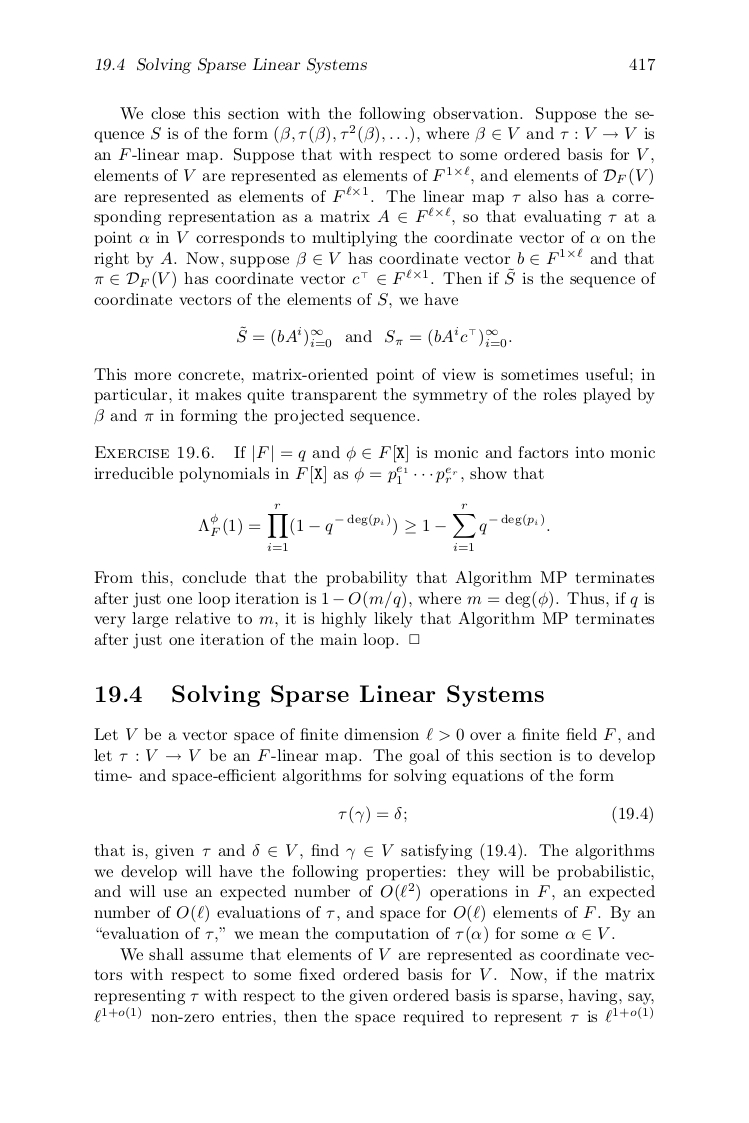formula: (198, 503, 549, 550), (237, 325, 511, 348), (338, 805, 652, 824)
